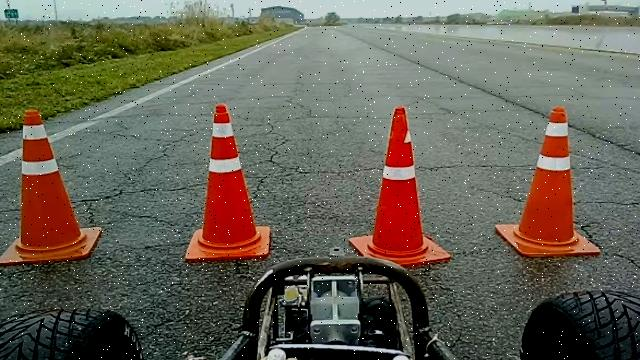red cone: (349, 106, 451, 268), (494, 105, 600, 258), (0, 108, 102, 265), (184, 102, 271, 262)
